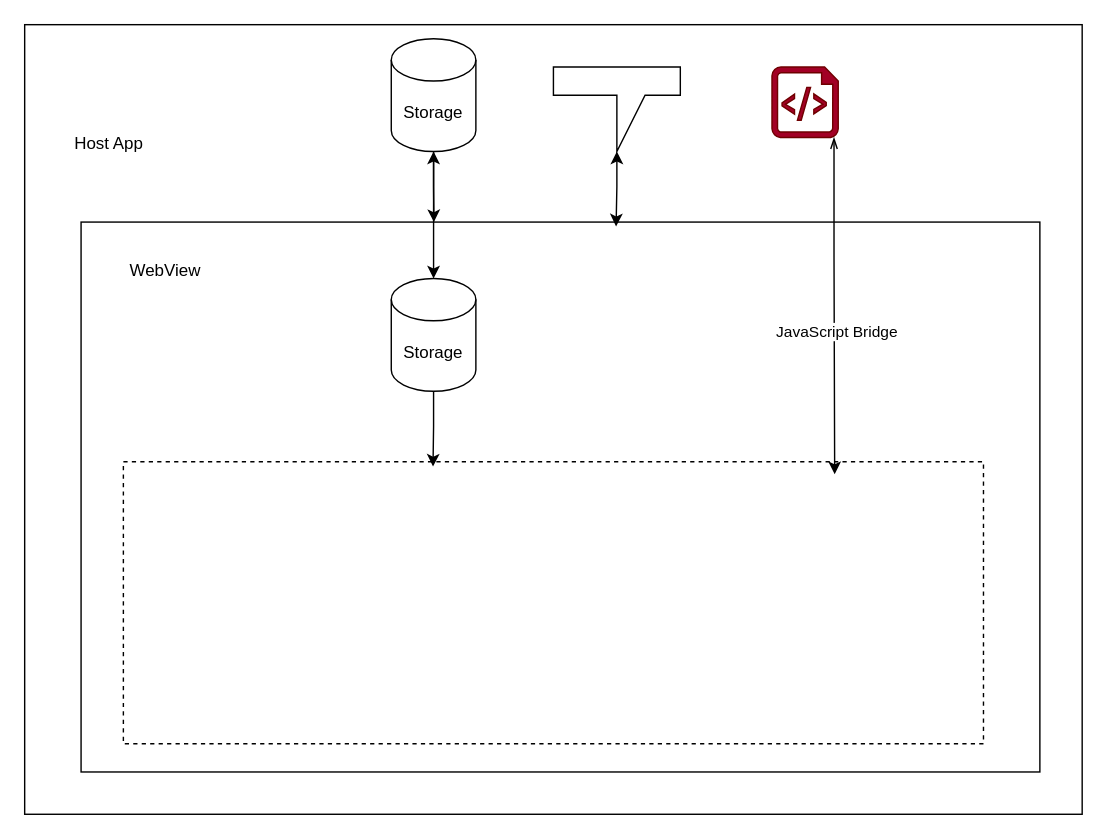
The diagram is 1107 pixels wide and 839 high, and some of its shapes have lost their labels. Each missing label, with the centre of its shape:
Origin Web Content: (552,602)
Permissions: (616,109)
